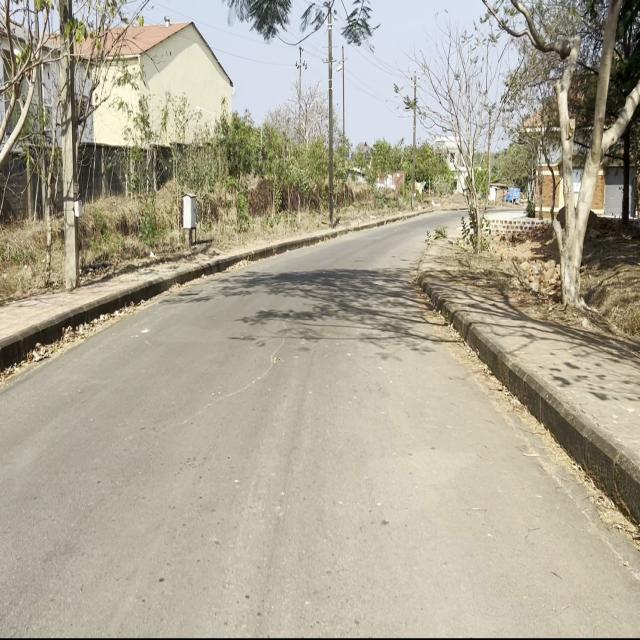Road: (3, 229, 636, 632)
